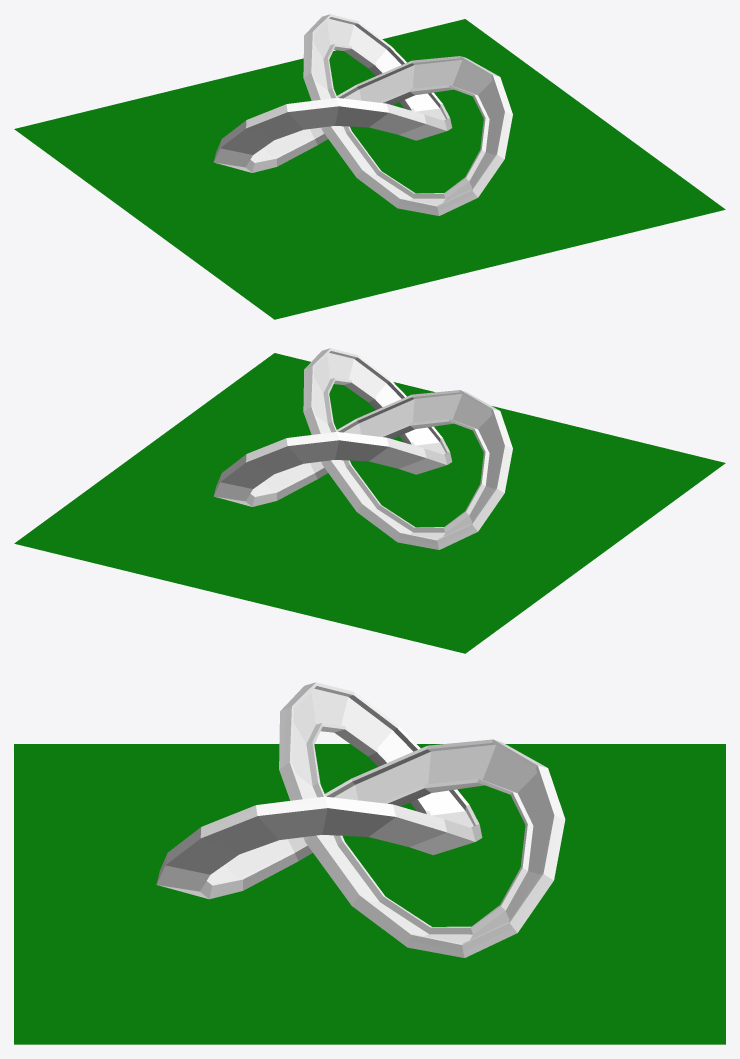
Rendered from TESTE Check 2.glb.
3 views of the same model, one above another, from view 1: azimuth 30°, elevation 25°; view 2: azimuth 150°, elevation 25°; view 3: azimuth 270°, elevation 25° (orthographic). The views are drawn at different scales.
Parts seen in each view (by area): view 1: Plane.001, TorusKnot PISTA SEED Afinada Extrud Wall Check.001; view 2: Plane.001, TorusKnot PISTA SEED Afinada Extrud Wall Check.001; view 3: Plane.001, TorusKnot PISTA SEED Afinada Extrud Wall Check.001.
Part boxes in pixels (x1,y1,x2,y2): Plane.001: (14,19,725,319); TorusKnot PISTA SEED Afinada Extrud Wall Check.001: (213,14,512,215); Plane.001: (14,353,725,653); TorusKnot PISTA SEED Afinada Extrud Wall Check.001: (213,348,512,549); Plane.001: (14,744,725,1044); TorusKnot PISTA SEED Afinada Extrud Wall Check.001: (156,682,565,957).
Bounding box in the file's own units: 1900 × 432 × 1900.
